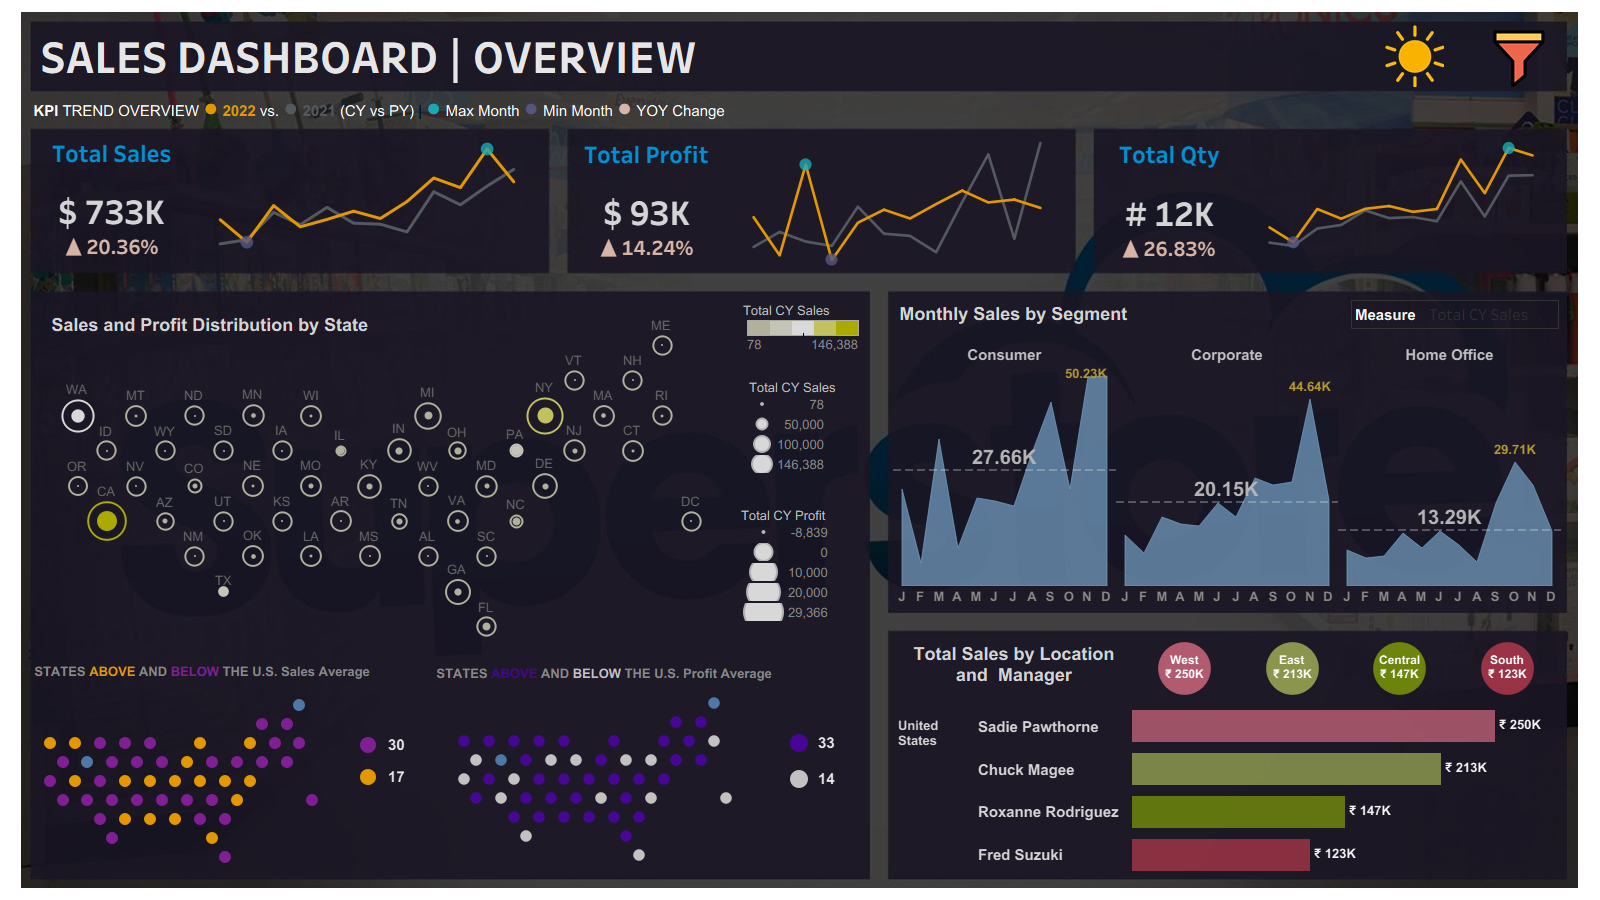

Layout of this report page (visuals, bound fields, positions):
{"tool":"tableau","page":{"name":"Sales Dashboard","canvas":[1600,900],"ordinal":0},"visuals":[{"type":"image","param":"C:/Users/DELL/Downloads/Sales Dashboard Background.jpg","box":[8,8,1584,884]},{"type":"text","box":[37,25,698,61]},{"type":"dashboard-object","box":[1369,25,92,62]},{"type":"dashboard-object","box":[1485,30,67,57]},{"type":"text","box":[30,90,730,35]},{"type":"filter","title":"Sales and Profit by State","param":"[federated.16ni7qs0nlfvvu1eor45s08rq03s].[none:Category:nk]","box":[1362,90,155,62]},{"type":"worksheet","title":"Profit KPI","mark":"Automatic","box":[571,131,152,139]},{"type":"worksheet","title":"Profit Sparkline","mark":"Automatic","rows":["min max month (copy)_1184505342476288"],"cols":["Order Date"],"box":[723,131,347,139]},{"type":"worksheet","title":"Qty KPI","mark":"Automatic","box":[1098,133,143,136]},{"type":"worksheet","title":"Qty Sparkline","mark":"Automatic","rows":["min max profit (copy)_1184505360867329"],"cols":["Order Date"],"box":[1241,133,319,136]},{"type":"worksheet","title":"Sales KPI","mark":"Automatic","box":[35,134,154,131]},{"type":"worksheet","title":"Sales Sparkline","mark":"Automatic","rows":["Calculation_0099560850890756"],"cols":["Order Date"],"box":[189,134,355,131]},{"type":"filter","title":"Sales and Profit by State","param":"[federated.16ni7qs0nlfvvu1eor45s08rq03s].[none:Region:nk]","box":[1362,152,155,62]},{"type":"filter","title":"Sales and Profit by State","param":"[federated.16ni7qs0nlfvvu1eor45s08rq03s].[none:Ship Mode:nk]","box":[1362,214,155,62]},{"type":"legend","title":"Sales and Profit by State","param":"[federated.16ni7qs0nlfvvu1eor45s08rq03s].[sum:Calculation_1218038268682240:qk]","box":[743,299,120,65]},{"type":"text","box":[896,299,235,30]},{"type":"parameter","param":"[Parameters].[Parameter 0884615949668352]","box":[1351,300,208,29]},{"type":"worksheet","title":"Sales and Profit by State","mark":"Circle","rows":["Row"],"cols":["Column","Column"],"box":[31,310,701,352]},{"type":"text","box":[48,310,348,30]},{"type":"worksheet","title":"Monthly Sales by Segment","mark":"Area","rows":["Calculation_0884615952060417"],"cols":["Segment","Order Date"],"box":[893,345,668,261]},{"type":"legend","title":"Sales and Profit by State","param":"[federated.16ni7qs0nlfvvu1eor45s08rq03s].[sum:Calculation_1218038268682240:qk]","box":[748,378,115,119]},{"type":"legend","title":"Sales and Profit by State","param":"[federated.16ni7qs0nlfvvu1eor45s08rq03s].[sum:Total CY Sales (copy)_115096842801","box":[740,506,114,123]},{"type":"worksheet","title":"Region wise Sales","mark":"Circle","cols":["Region"],"box":[1131,634,430,68]},{"type":"text","box":[881,643,266,44]},{"type":"text","box":[31,657,343,30]},{"type":"text","box":[433,659,343,30]},{"type":"worksheet","title":"Avg Profit by State","mark":"Circle","rows":["Row"],"cols":["Column"],"box":[445,684,300,190]},{"type":"worksheet","title":"Avg Sales by State","mark":"Circle","rows":["Row"],"cols":["Column"],"box":[31,686,300,190]},{"type":"worksheet","title":"Total Sales by Location and Manager","mark":"Automatic","rows":["Country/Region","Regional Manager"],"cols":["Calculation_1218038268682240"],"box":[892,705,671,171]},{"type":"worksheet","title":"Avg Profit by State Count","mark":"Circle","rows":["Sales Avg Color (copy)_0430517014556678"],"box":[760,725,78,72]},{"type":"worksheet","title":"Avg Sales by State Count","mark":"Circle","rows":["Calculation_0430517010214914"],"box":[327,729,81,64]}]}

Visuals, with their boxes in screenshot pixels (x1, y1, x2, y2), scaled from the page's 1600x900 canvas onto the 1600x900 screenshot:
image: crop(8, 8, 1592, 892)
text: crop(37, 25, 735, 86)
dashboard-object: crop(1369, 25, 1461, 87)
dashboard-object: crop(1485, 30, 1552, 87)
text: crop(30, 90, 760, 125)
"Sales and Profit by State" filter: crop(1362, 90, 1517, 152)
"Profit KPI" worksheet: crop(571, 131, 723, 270)
"Profit Sparkline" worksheet: crop(723, 131, 1070, 270)
"Qty KPI" worksheet: crop(1098, 133, 1241, 269)
"Qty Sparkline" worksheet: crop(1241, 133, 1560, 269)
"Sales KPI" worksheet: crop(35, 134, 189, 265)
"Sales Sparkline" worksheet: crop(189, 134, 544, 265)
"Sales and Profit by State" filter: crop(1362, 152, 1517, 214)
"Sales and Profit by State" filter: crop(1362, 214, 1517, 276)
"Sales and Profit by State" legend: crop(743, 299, 863, 364)
text: crop(896, 299, 1131, 329)
parameter: crop(1351, 300, 1559, 329)
"Sales and Profit by State" worksheet (Circle marks): crop(31, 310, 732, 662)
text: crop(48, 310, 396, 340)
"Monthly Sales by Segment" worksheet (Area marks): crop(893, 345, 1561, 606)
"Sales and Profit by State" legend: crop(748, 378, 863, 497)
"Sales and Profit by State" legend: crop(740, 506, 854, 629)
"Region wise Sales" worksheet (Circle marks): crop(1131, 634, 1561, 702)
text: crop(881, 643, 1147, 687)
text: crop(31, 657, 374, 687)
text: crop(433, 659, 776, 689)
"Avg Profit by State" worksheet (Circle marks): crop(445, 684, 745, 874)
"Avg Sales by State" worksheet (Circle marks): crop(31, 686, 331, 876)
"Total Sales by Location and Manager" worksheet: crop(892, 705, 1563, 876)
"Avg Profit by State Count" worksheet (Circle marks): crop(760, 725, 838, 797)
"Avg Sales by State Count" worksheet (Circle marks): crop(327, 729, 408, 793)
